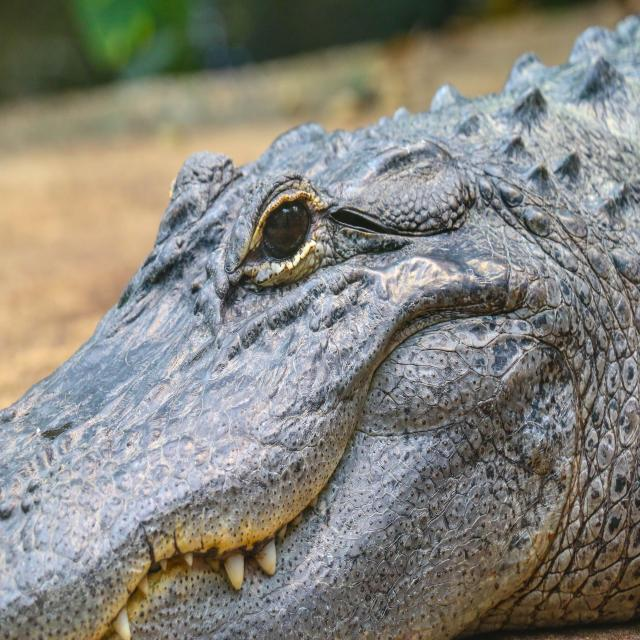crocodile: (1, 11, 640, 640)
